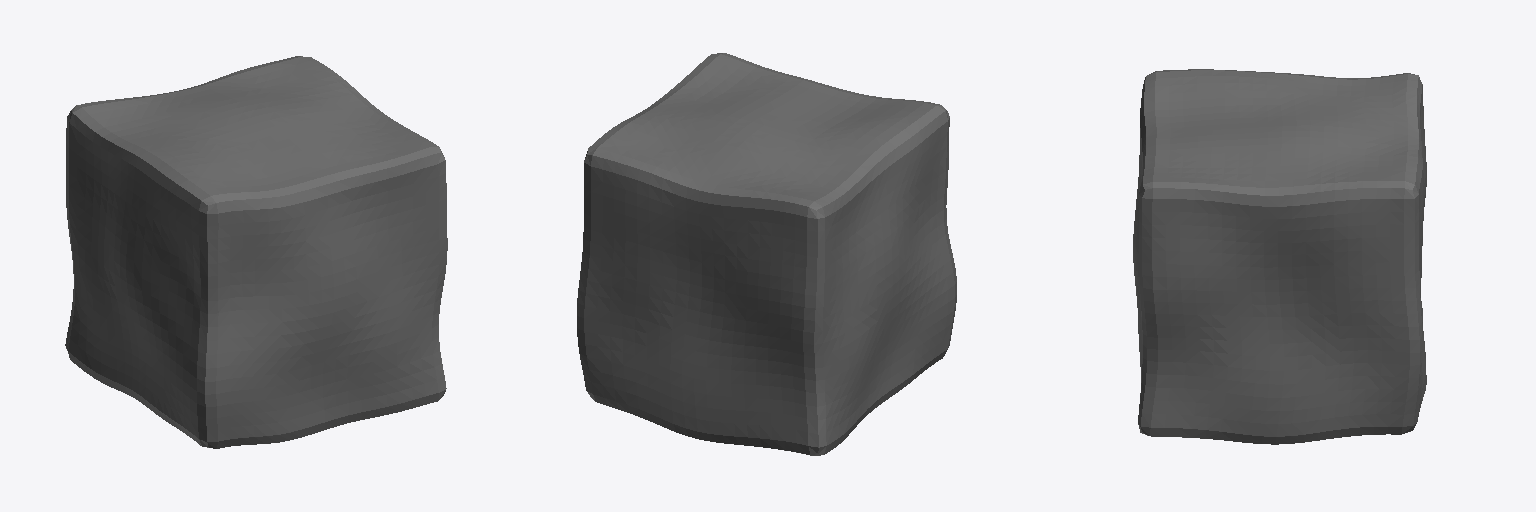
Rendered from bloc1.obj.
The picture shows the model from 3 angles: view 1: azimuth 30°, elevation 25°; view 2: azimuth 150°, elevation 25°; view 3: azimuth 270°, elevation 25°; orthographic projection.
Visible parts, largest first — view 1: Box005; view 2: Box005; view 3: Box005.
Boxes of the visible parts, box(x1,y1,x2,y2) form: Box005: box(65, 56, 447, 448); Box005: box(577, 53, 956, 455); Box005: box(1133, 69, 1426, 444).
Size of the model in its own units: 0.7353 by 0.7347 by 0.7353.